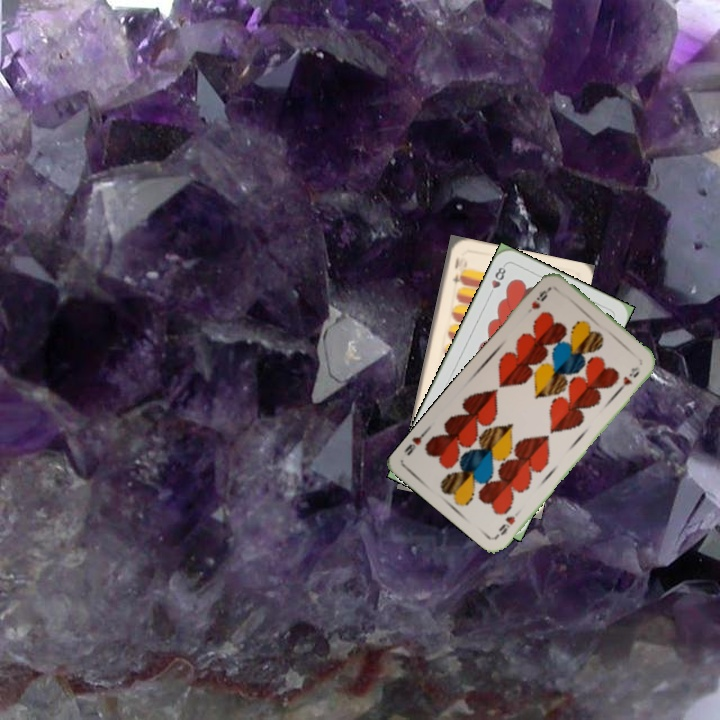E10: (448, 252, 466, 291)
H8: (485, 261, 509, 299)
H9: (527, 284, 553, 312), (492, 512, 518, 540)
